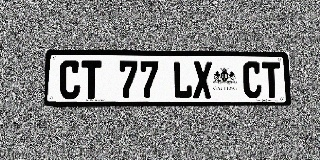7: (118, 61, 138, 99), (139, 61, 159, 99)
C: (59, 60, 80, 99), (243, 62, 262, 98)
L: (173, 61, 193, 98)
T: (81, 61, 102, 99), (262, 62, 281, 98)
X: (193, 61, 212, 98)
